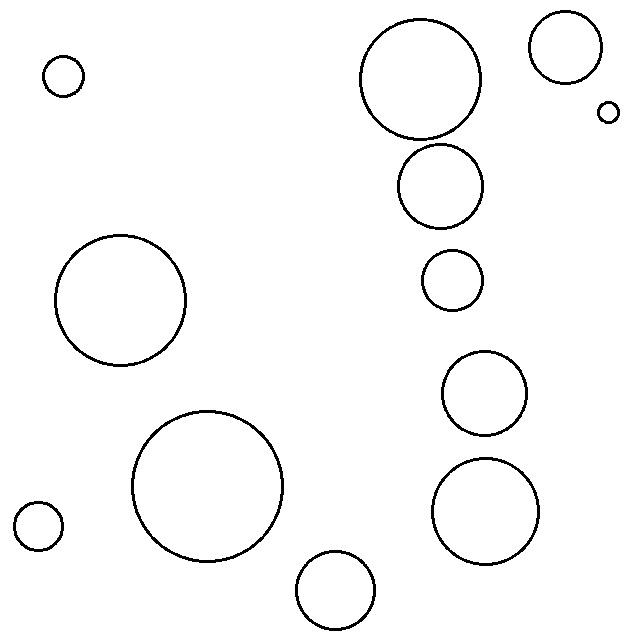circle: (128, 406, 287, 567), (52, 231, 191, 369), (356, 16, 485, 141), (428, 453, 543, 568), (395, 142, 488, 233), (441, 347, 531, 440), (292, 548, 381, 634), (527, 7, 604, 86), (420, 247, 486, 314), (13, 498, 66, 553), (39, 50, 89, 100), (595, 99, 623, 125)
